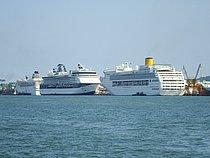Ship: (99, 56, 192, 101), (37, 60, 104, 97)
